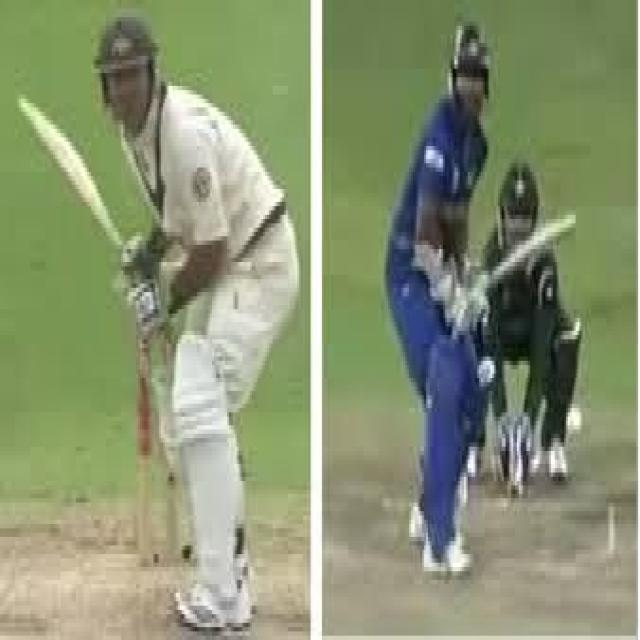bat: (17, 93, 132, 262), (481, 215, 574, 293)
toe: (18, 82, 40, 135)
